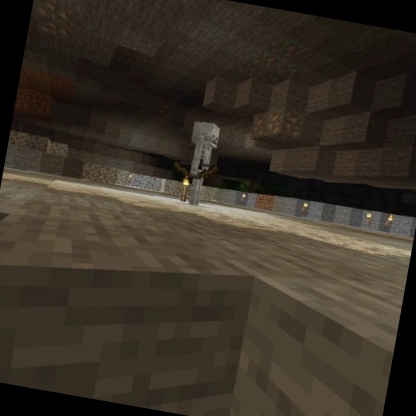skeleton: (163, 114, 231, 212)
